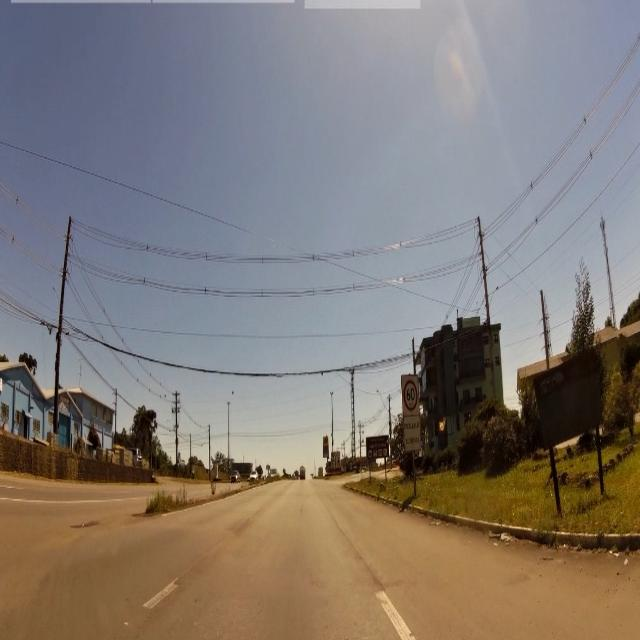R-19: (403, 381, 418, 411)
